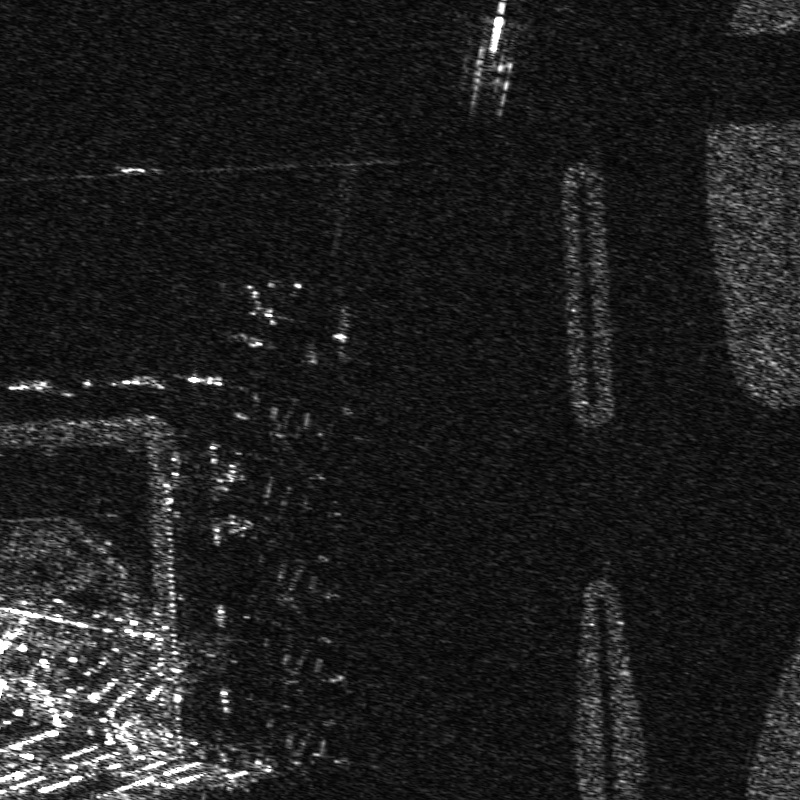A220: (248, 562, 349, 635), (262, 390, 344, 479), (275, 648, 358, 726), (286, 736, 383, 799)
A320/321: (220, 267, 310, 333)
